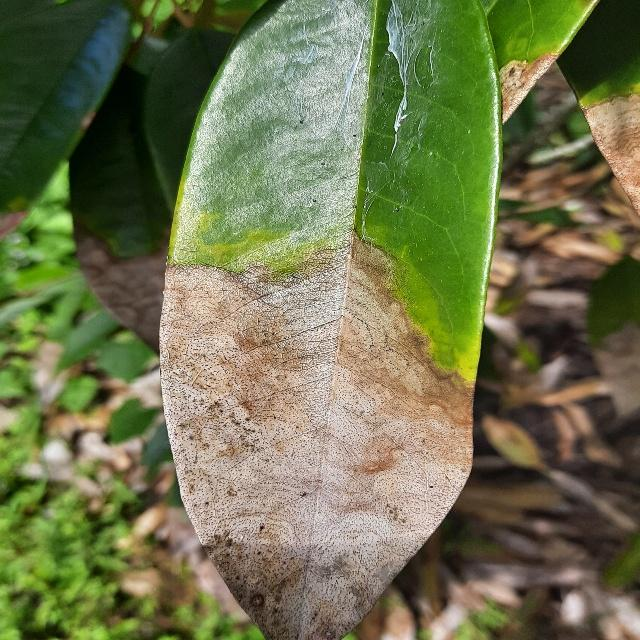Leaf Blight: (155, 0, 511, 640)
